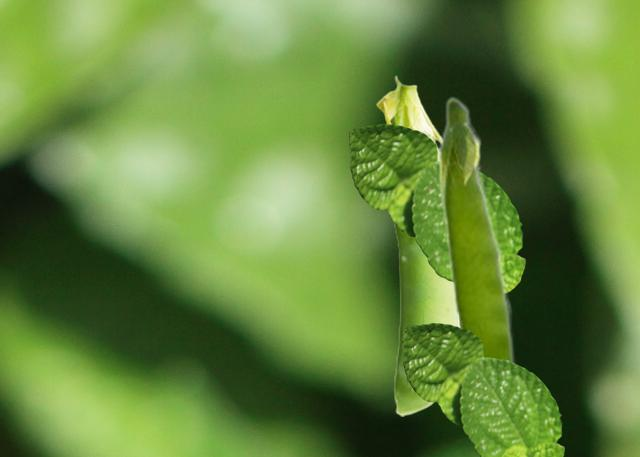pea: (376, 75, 457, 415), (437, 95, 517, 362)
